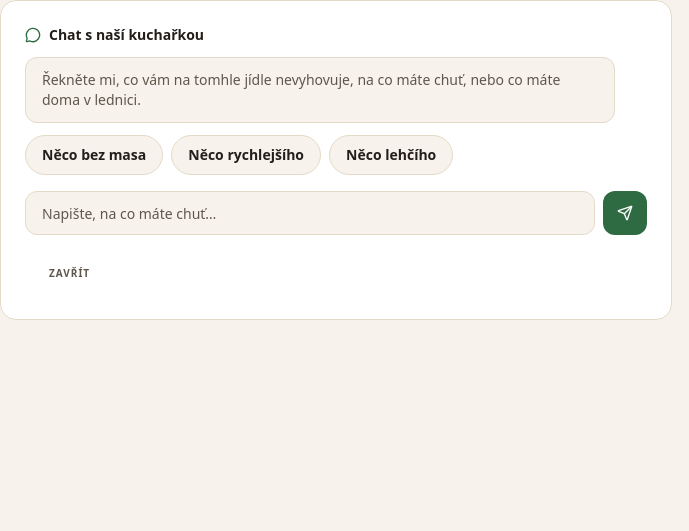
Scenario: RecipeRefineChat › unmatched turn uses the honest fallback phrasing
This screenshot has width=689, height=531.
Type "něco s tofu" into the field with placeholder "Napište, na co máte chuť…".
click(310, 213); type("něco s tofu")  # box [25,191,595,235]
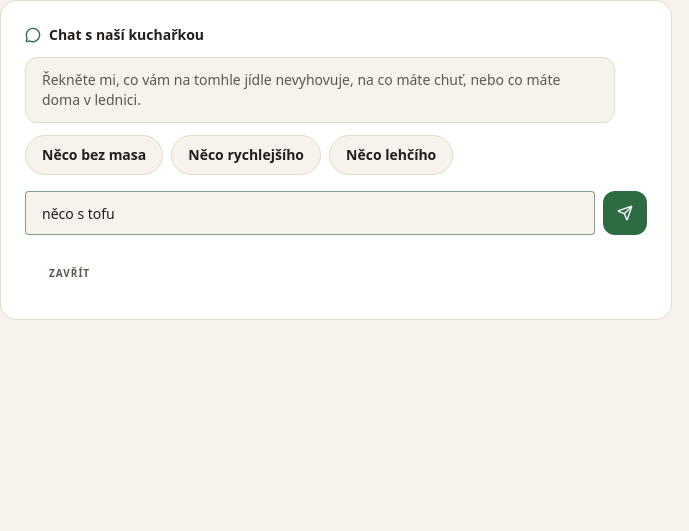
Click the button named "Odeslat".
click(625, 213)  # box [603,191,647,235]
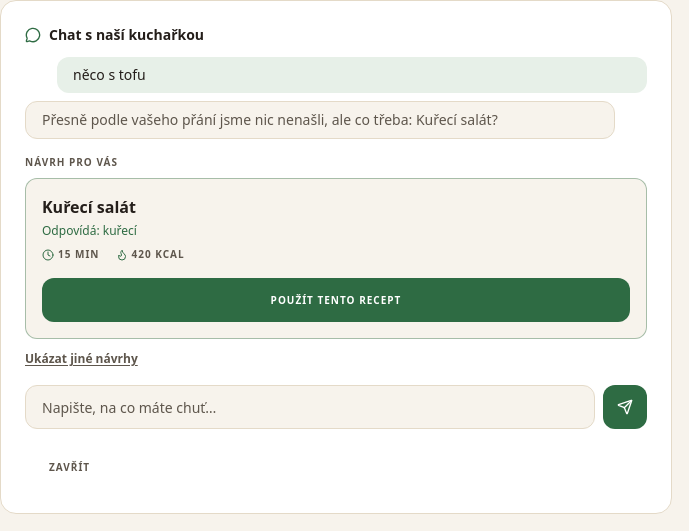
Check: the list item "Přesně podle vašeho přání jsme nic nenašli, ale co třeba: Kuřecí salát?" is shown, box [25,101,615,139]
